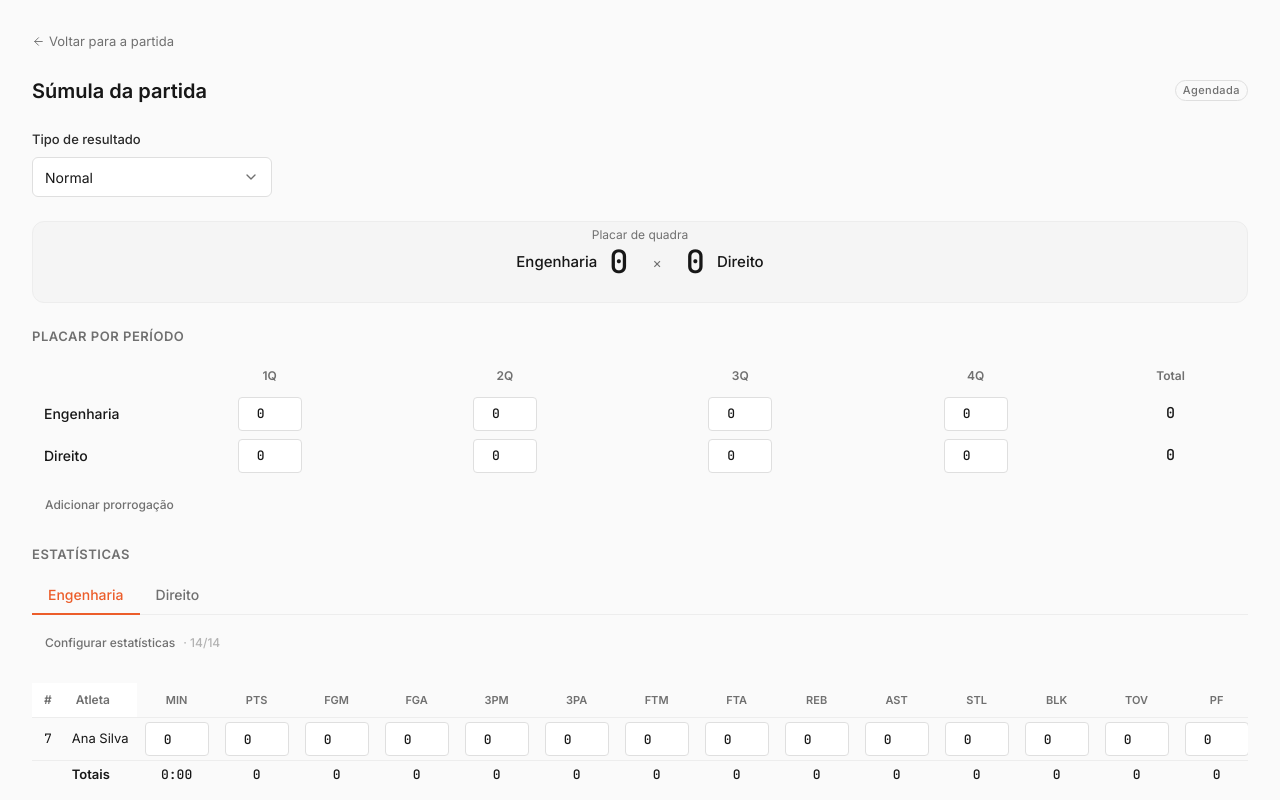
MatchSumulaPage — FORFEIT › restores untouched reducer values when returning from FORFEIT
This screenshot has width=1280, height=800.
Replace the text in the number field named "Engenharia — 1º período" with "7" at (261, 414), box [239,398,283,430]
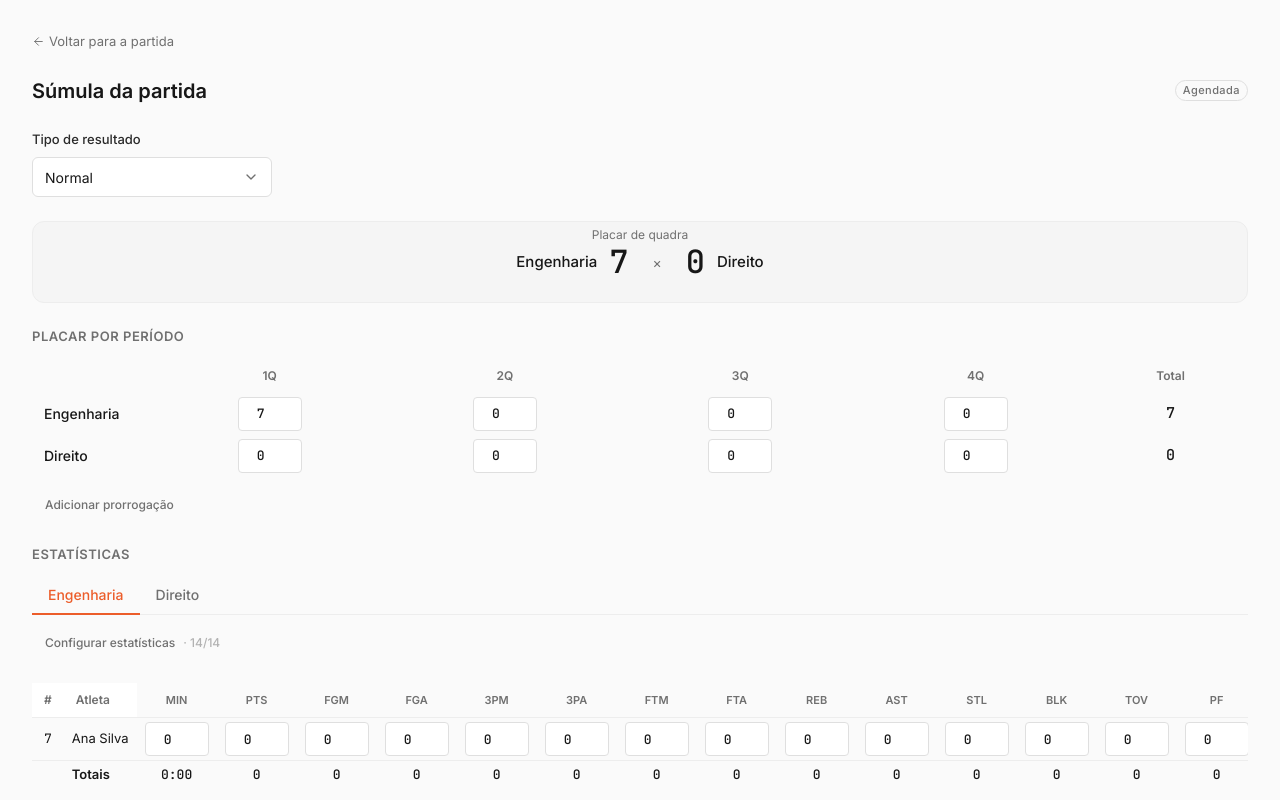
Click the button named "Tipo de resultado" at (152, 177), box [32,157,272,197]
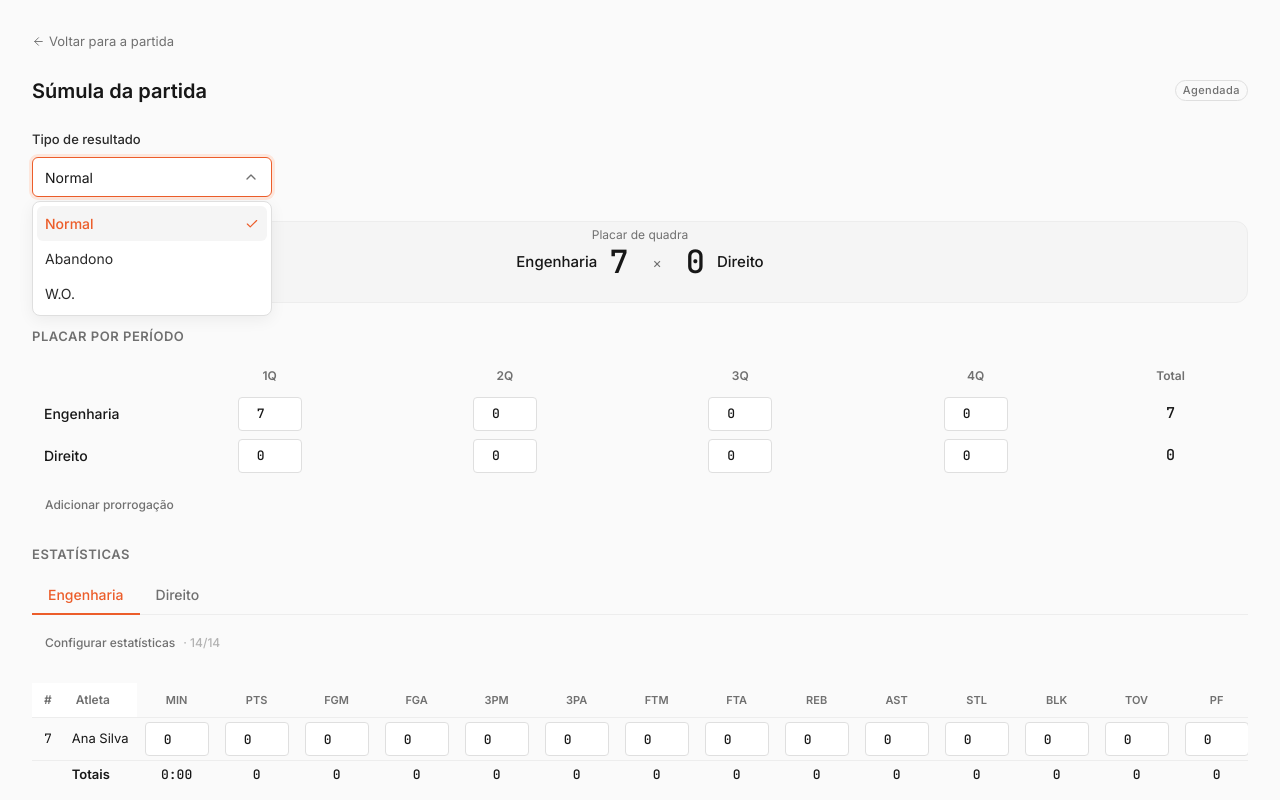
Click the option "W.O." at (60, 294), box [45,285,75,302]
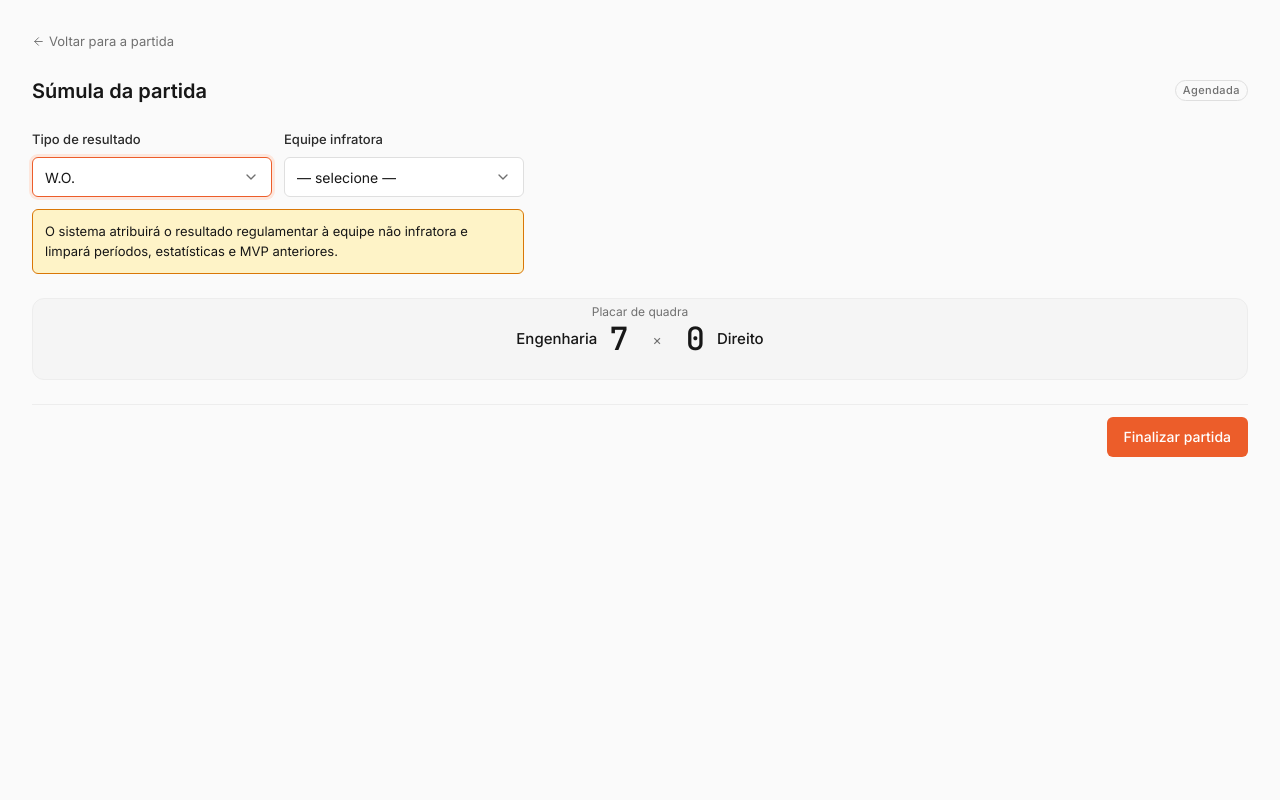
Click the button named "Tipo de resultado" at (152, 177), box [32,157,272,197]
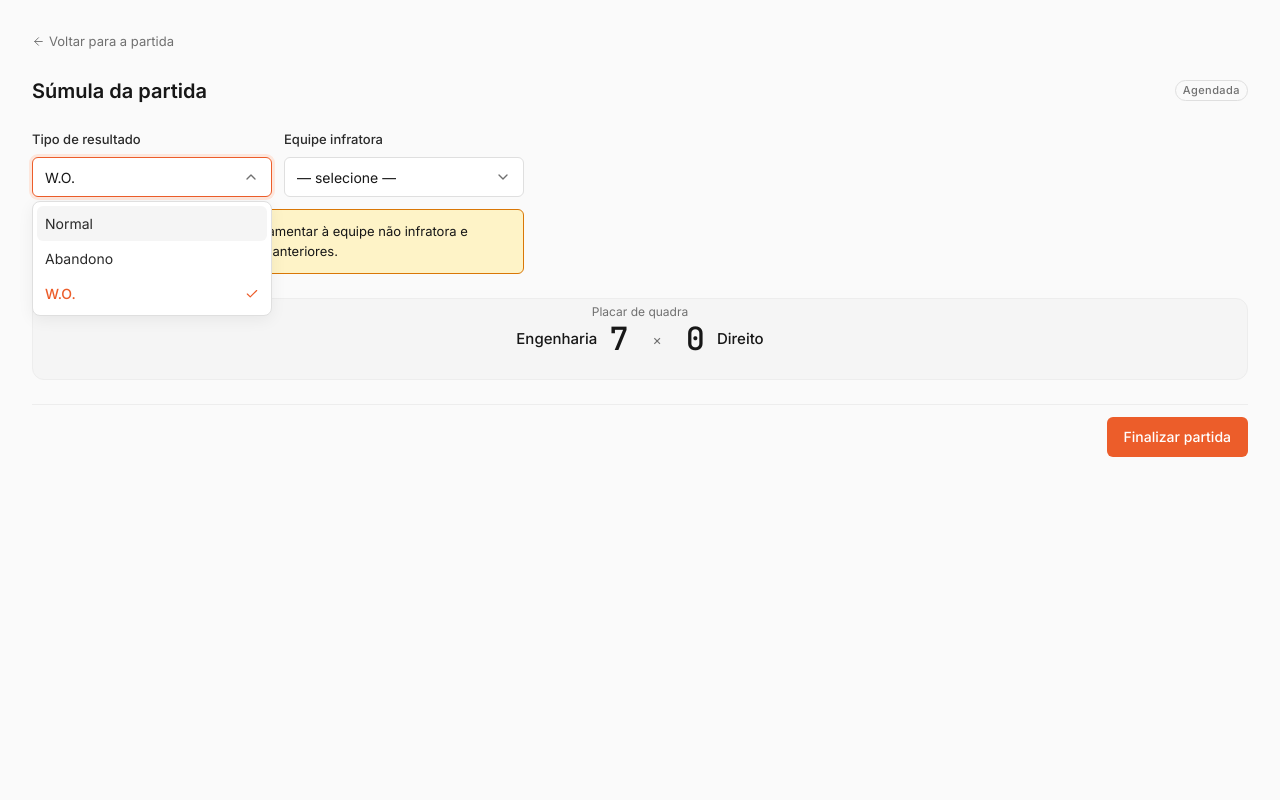
Click the option "Normal" at (152, 224), box [37,206,267,241]
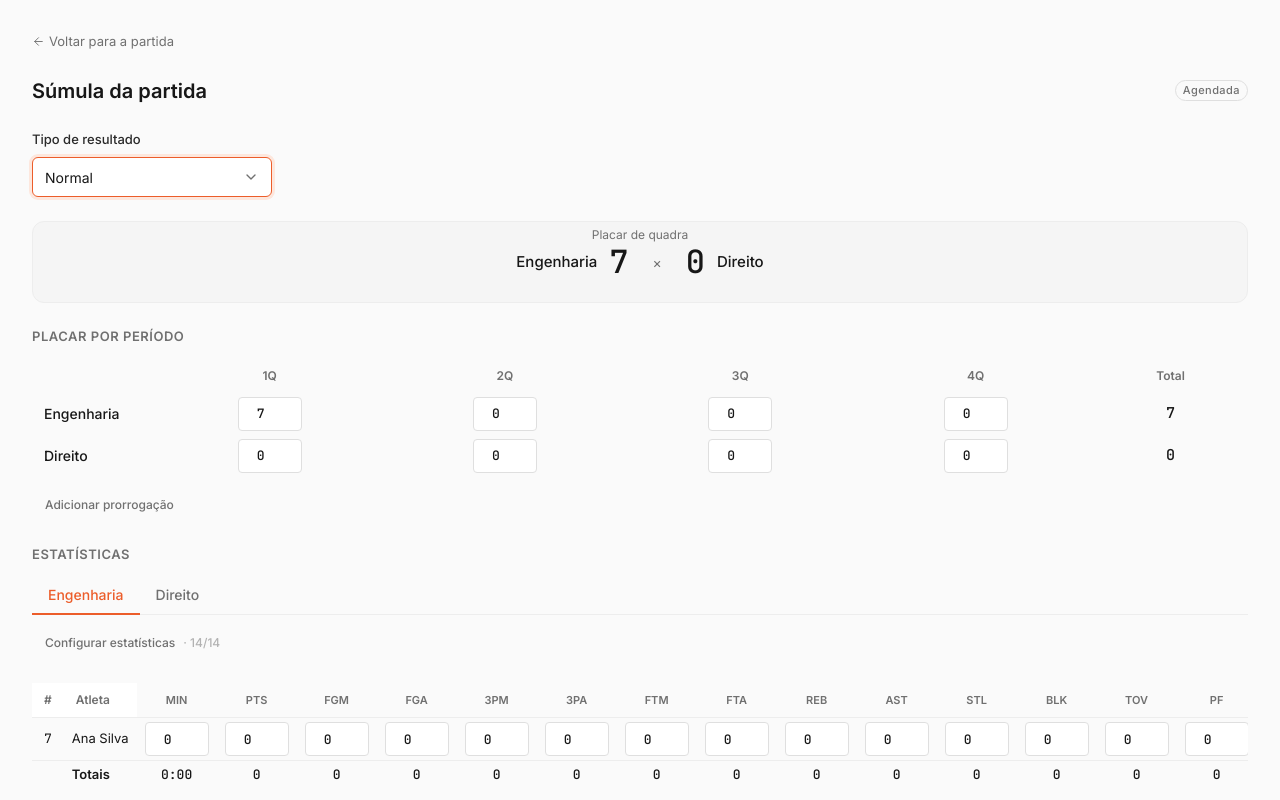
Now the number field named "Engenharia — 1º período" holds "7", box [239,398,283,430]
